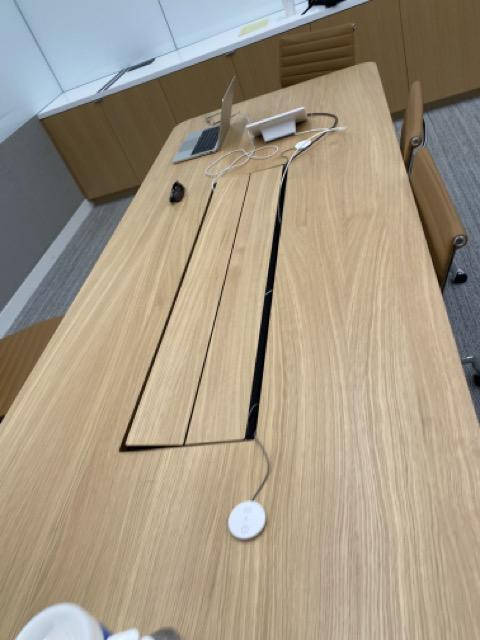Sunglasses: (170, 180, 186, 206)
